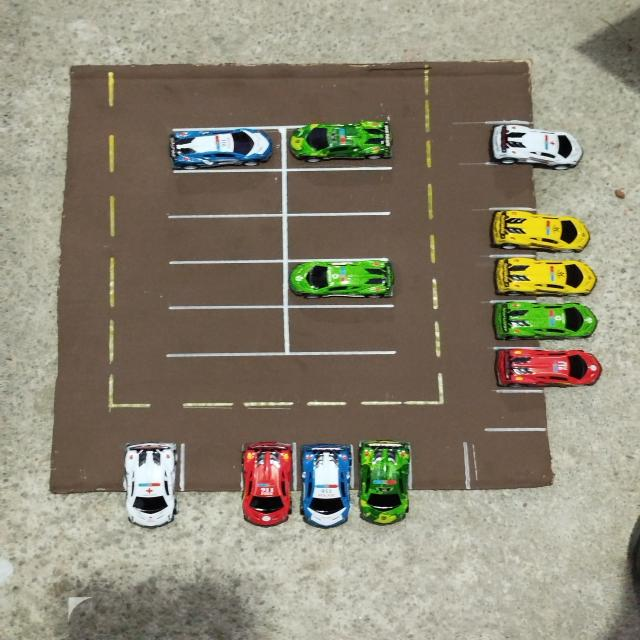libre: (49, 441, 120, 530), (168, 306, 284, 354), (284, 304, 395, 354), (169, 216, 286, 262), (182, 441, 242, 530), (166, 262, 284, 306), (168, 170, 283, 214), (285, 214, 391, 260), (413, 439, 467, 529), (488, 164, 593, 210), (284, 169, 388, 214), (491, 389, 603, 430)
no_estacionarse: (472, 430, 550, 488)
ocupado: (122, 441, 182, 529), (490, 255, 603, 301), (296, 441, 354, 529), (285, 260, 395, 306), (489, 208, 599, 254), (492, 301, 604, 346), (355, 439, 411, 528), (168, 129, 284, 170), (493, 346, 603, 389), (285, 126, 392, 170), (242, 441, 295, 529), (488, 121, 589, 163)
